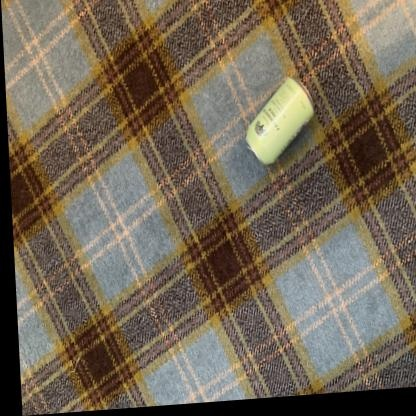trash: (246, 78, 313, 164)
